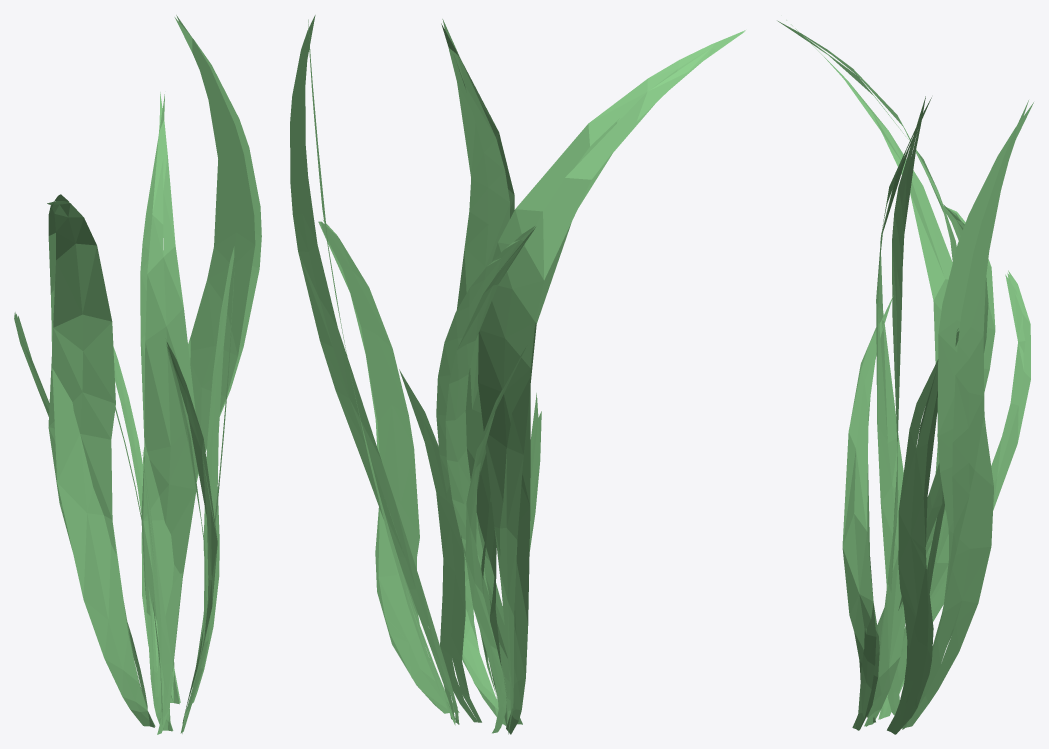
Rendered from SEAWEEDS.fbx.
3 views of the same model, side by side, from view 1: azimuth 30°, elevation 25°; view 2: azimuth 150°, elevation 25°; view 3: azimuth 270°, elevation 25° (orthographic). The views are drawn at different scales.
Visible parts, largest first — view 1: SEAWEED; view 2: SEAWEED; view 3: SEAWEED.
Part boxes in pixels (<box>): SEAWEED: <box>14,15,261,734</box>; SEAWEED: <box>290,15,745,734</box>; SEAWEED: <box>777,20,1033,734</box>.
Bounding box in the file's own units: 8.87 × 6.32 × 17.99.
